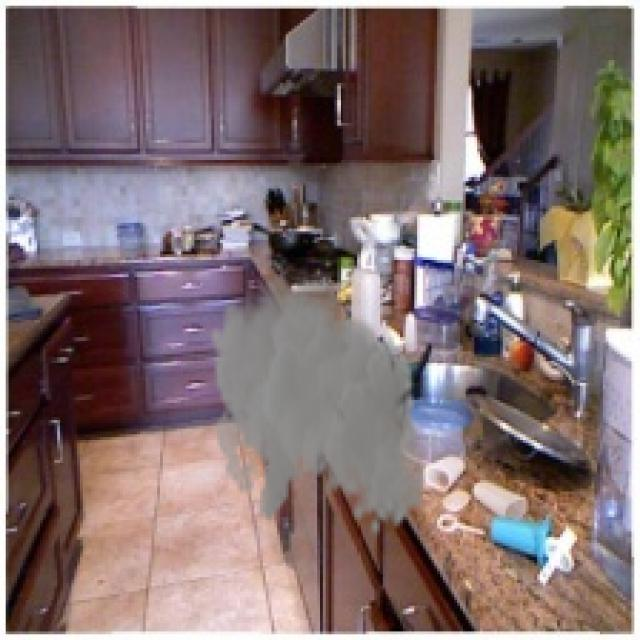smoke: (208, 260, 426, 537)
